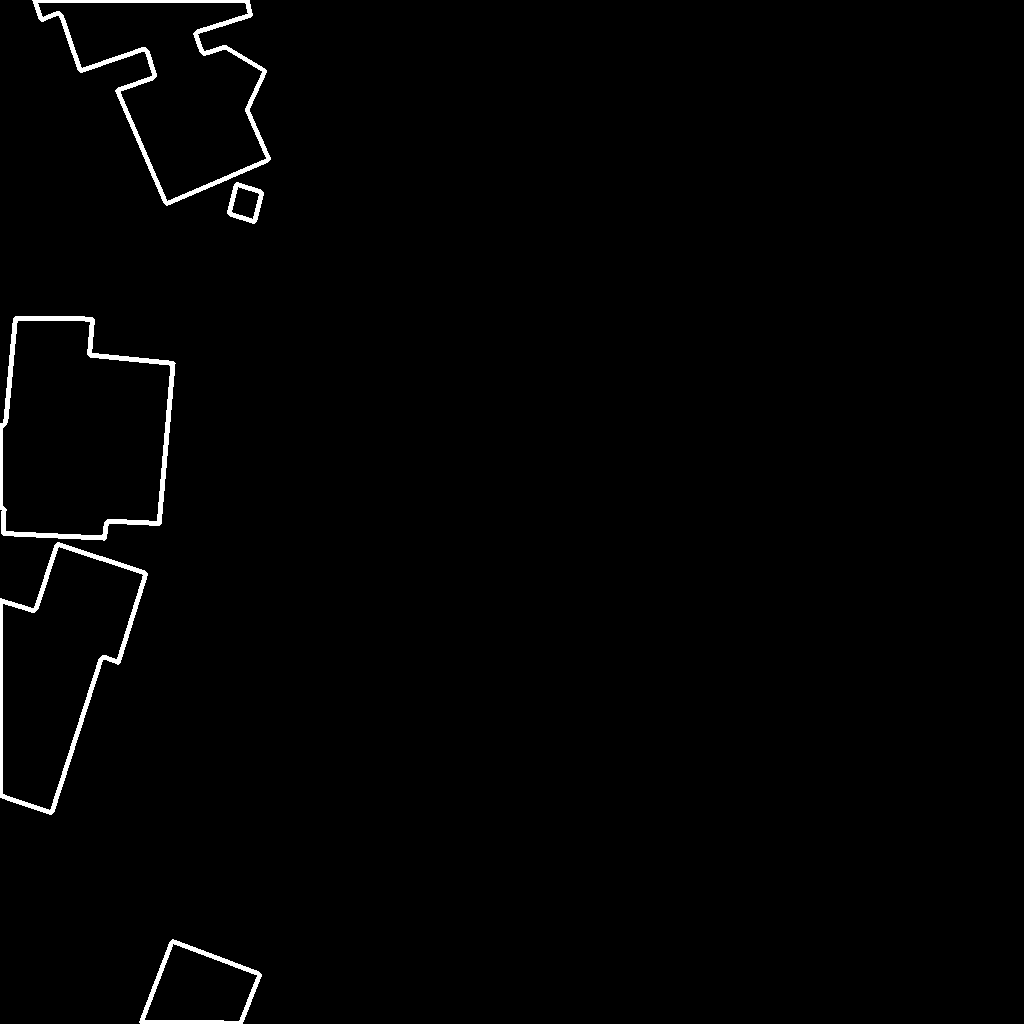building: (34, 0, 270, 205), (0, 544, 147, 814), (0, 318, 174, 539), (141, 941, 261, 1024), (229, 184, 263, 223)
